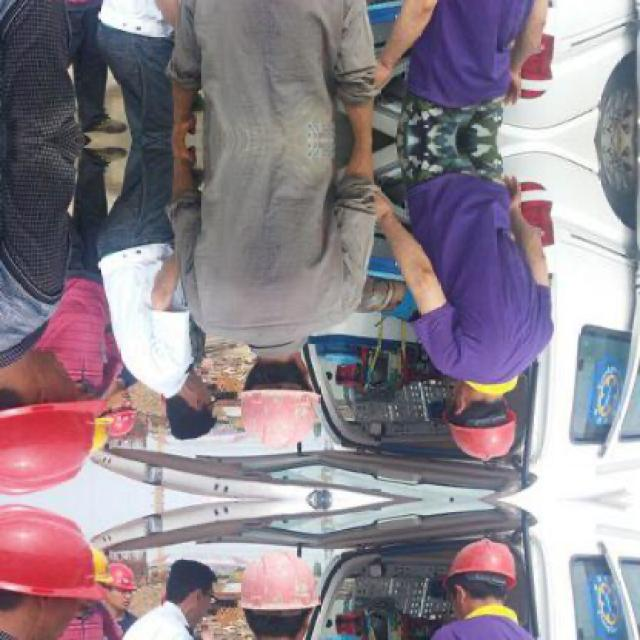con casco: (0, 260, 95, 505), (416, 322, 548, 480), (241, 316, 348, 460)
sin casco: (156, 334, 242, 448)
